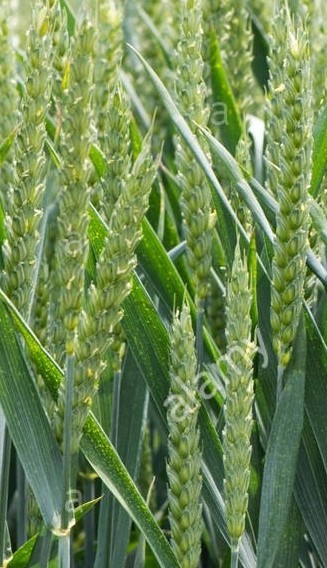Healthy Wheat: (158, 239, 270, 560), (7, 12, 93, 343)
